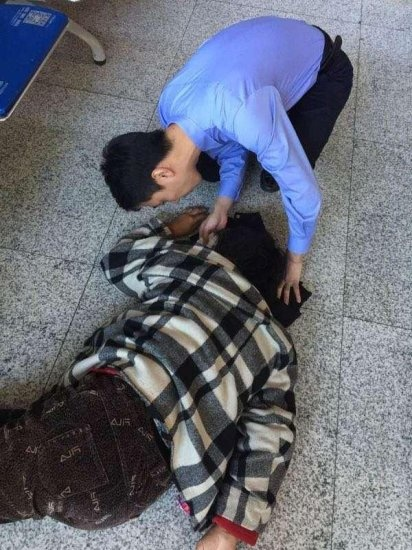falling: (19, 174, 306, 550)
